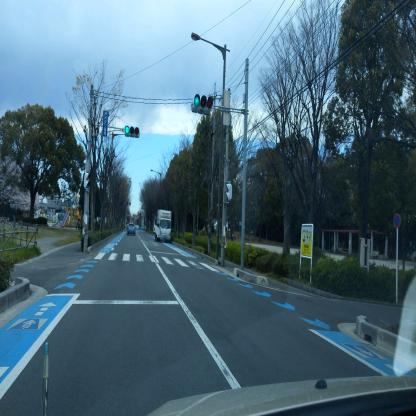Someiyoshino: (0, 152, 40, 218)
